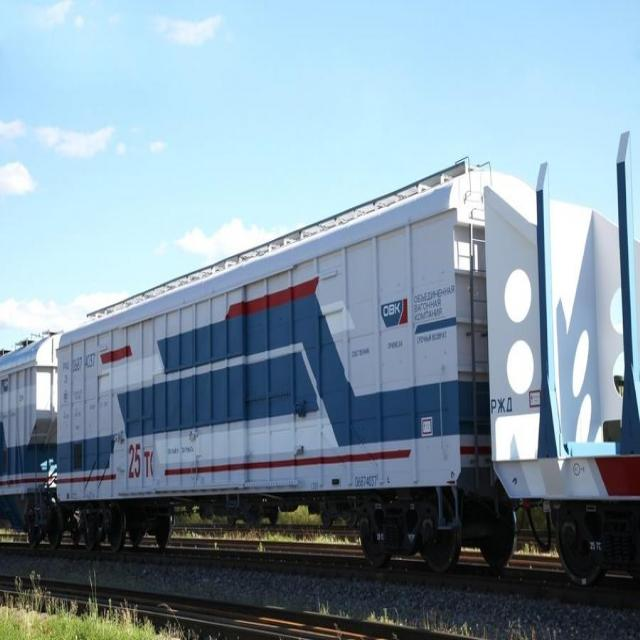boxcar: (54, 144, 495, 566)
flatcar_bulkhead: (477, 115, 640, 600)
hopper: (0, 319, 59, 559)
